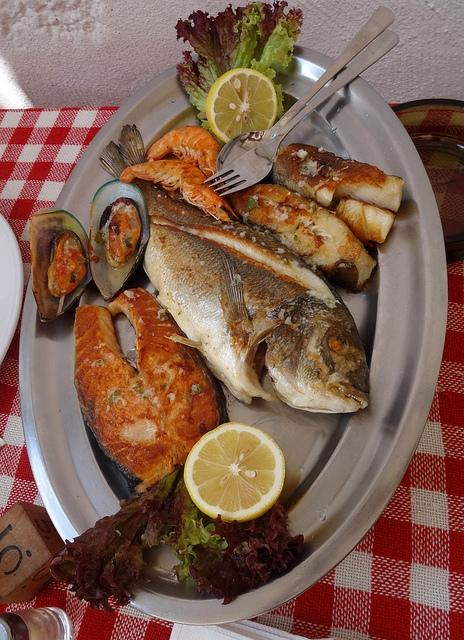lemon: (184, 422, 286, 524), (205, 68, 278, 144)
lettuce: (50, 464, 180, 614), (174, 0, 303, 134), (189, 503, 305, 605), (140, 472, 214, 562)
